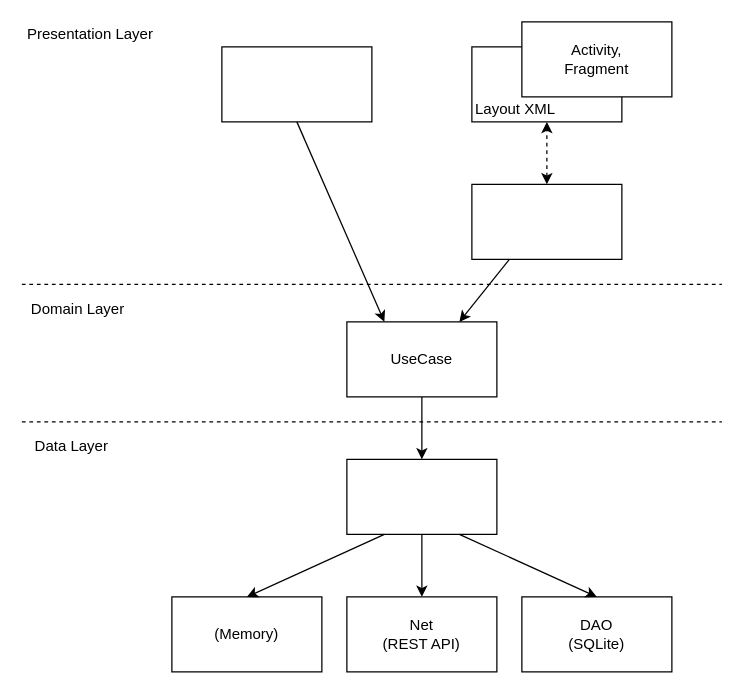
The diagram is 745 pixels wide and 694 high, and some of its shapes have lost their labels. The shapes that lost their labels are listed below. From the top down, each one's centre as x and y in pixels, then its label:
At point 296,84: "Service, IntentService".
At point 546,221: "ViewModel".
At point 421,496: "Repository".
